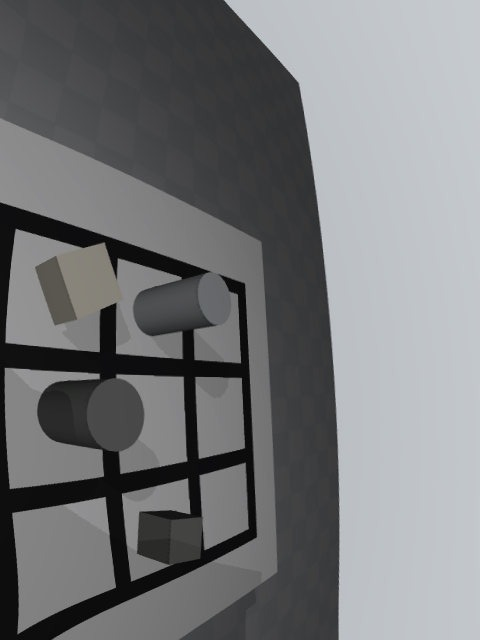can: (133, 272, 231, 336)
cube: (137, 510, 203, 565)
cylinder: (37, 378, 145, 452)
foam: (35, 242, 123, 325)
